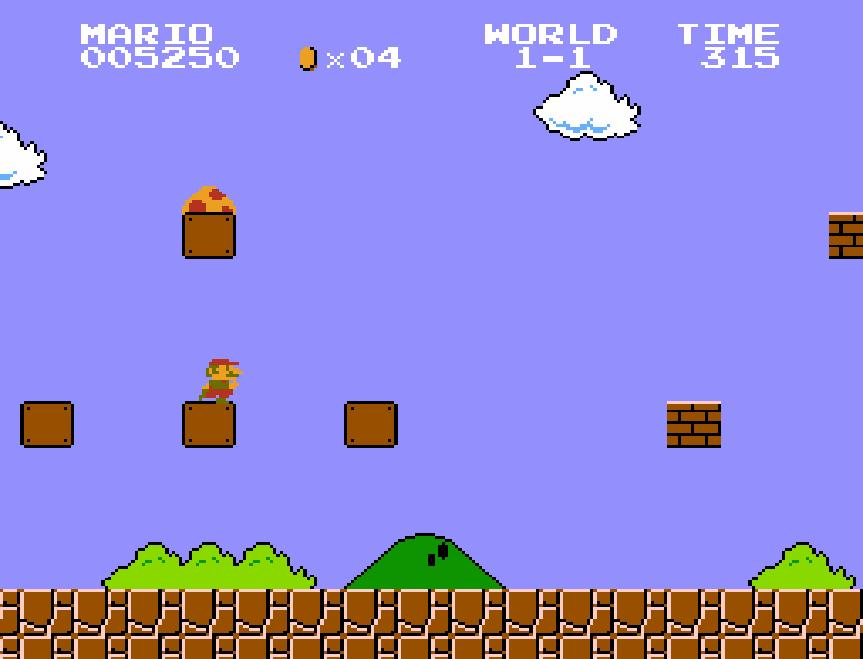little_mario: (190, 355, 247, 404)
